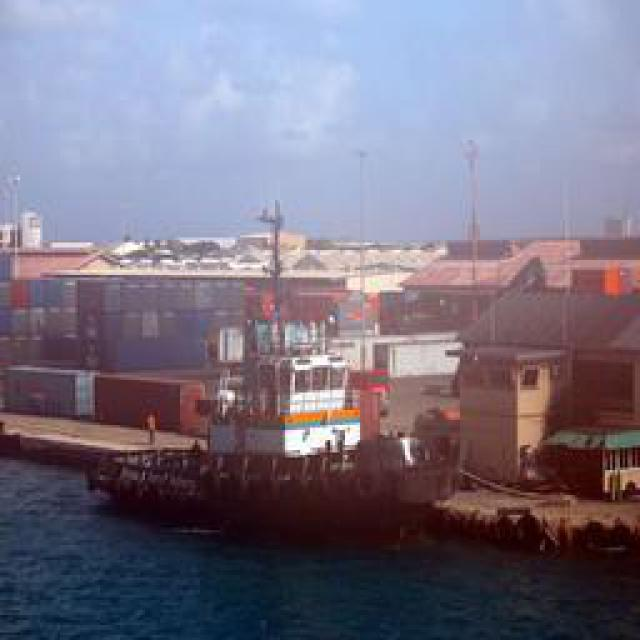Ship: (83, 312, 466, 560)
